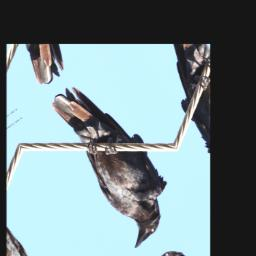Crow: (47, 64, 187, 252)
